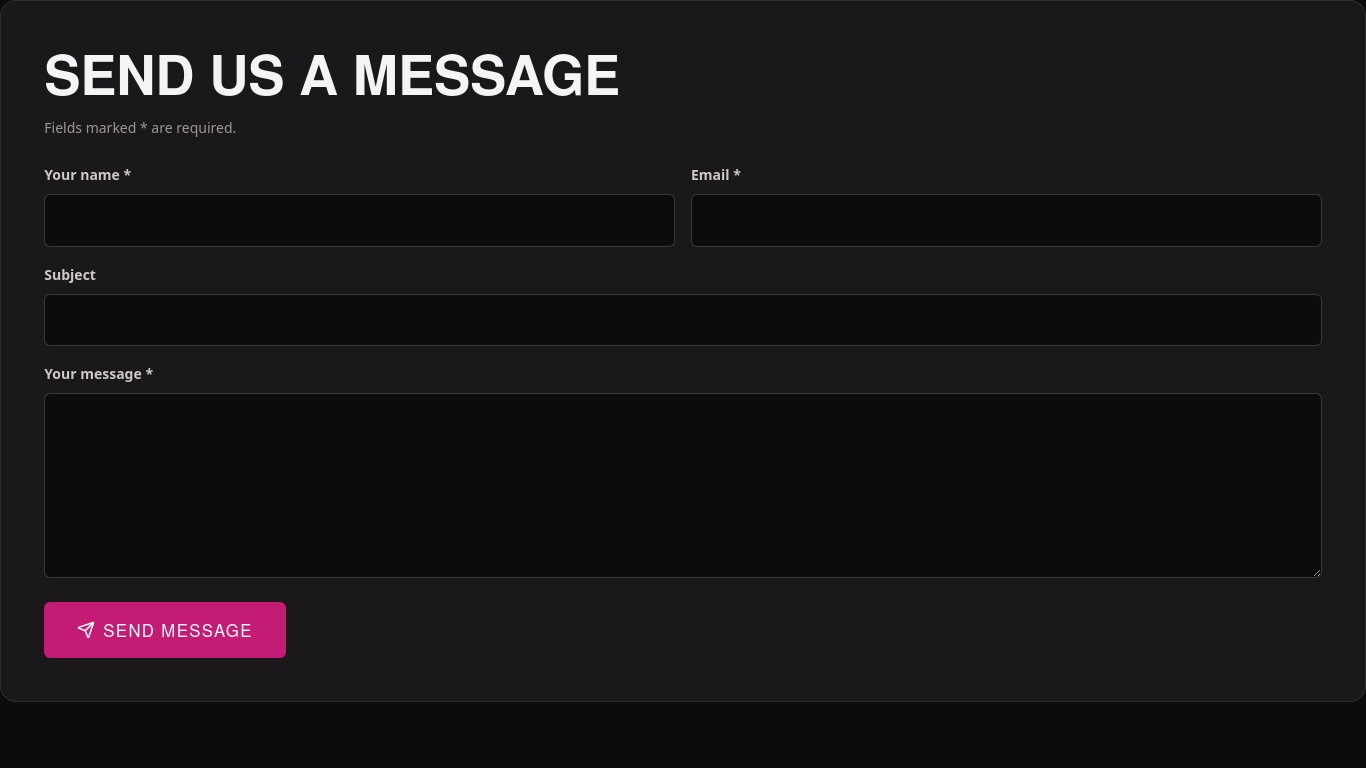
contact form › reports success only after the endpoint responds OK
This screenshot has width=1366, height=768.
Click the button "Send message" at (165, 630), box top-left (44, 602), bottom-right (286, 658)
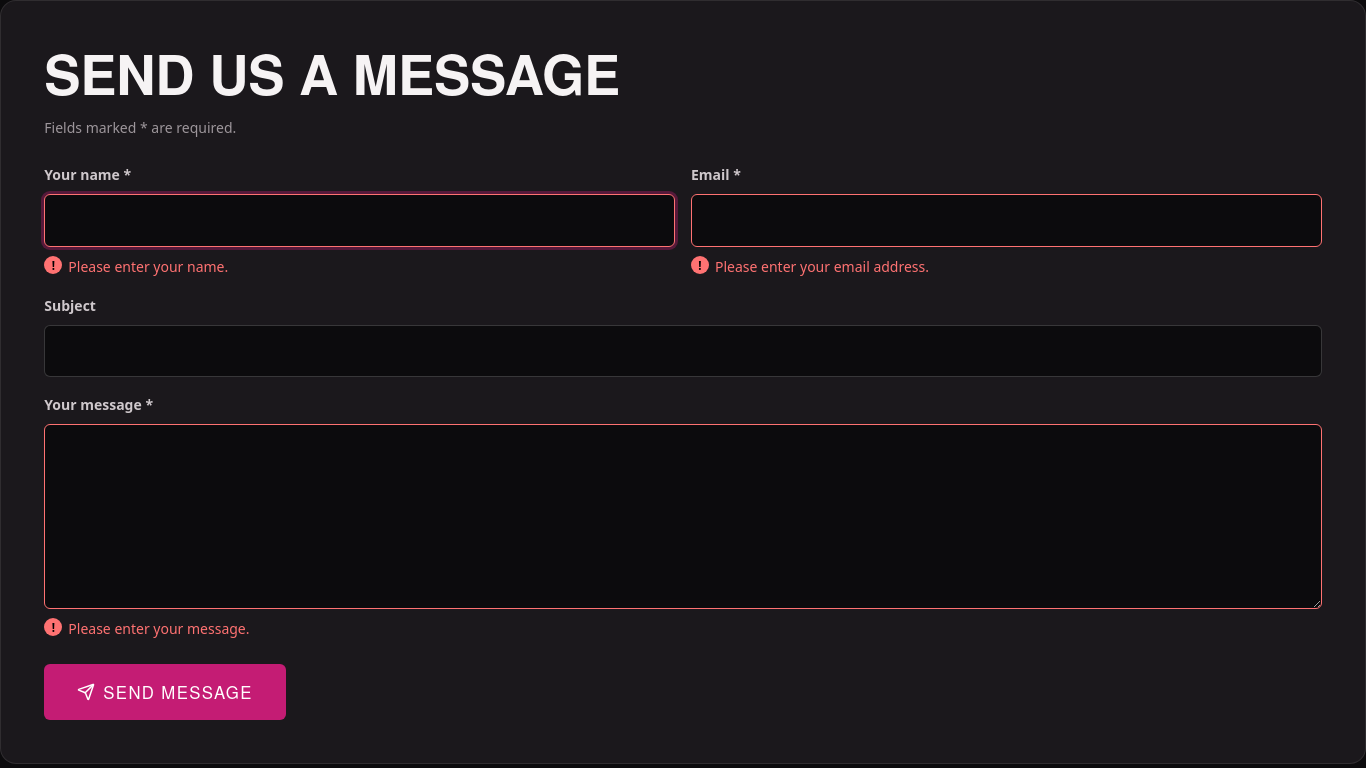
Now the text "Please enter your name." is shown, box top-left (68, 257), bottom-right (228, 276)
Type "Asha" into the field labelled "Your name *" at (360, 220), box top-left (44, 194), bottom-right (675, 247)
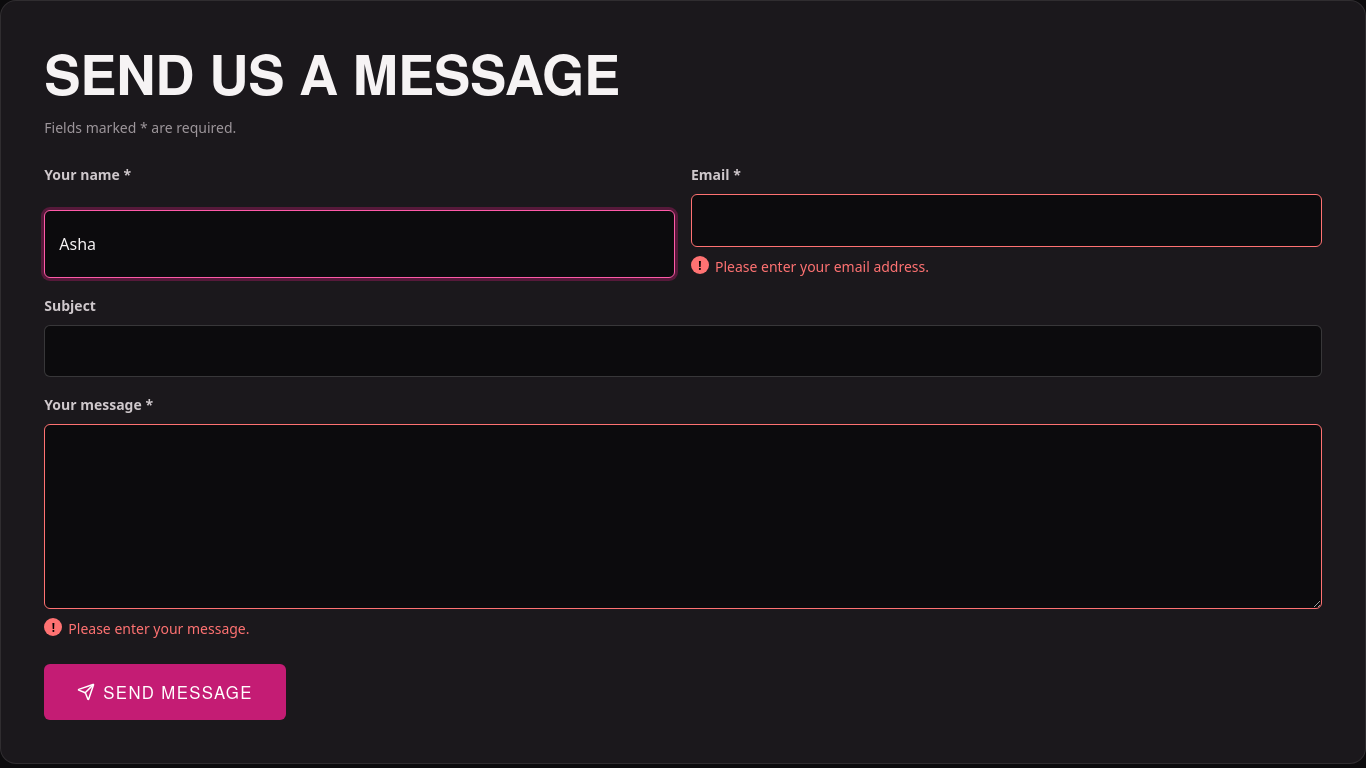
Type "asha@example.com" into the field labelled "Email *" at (1006, 220), box top-left (691, 194), bottom-right (1322, 247)
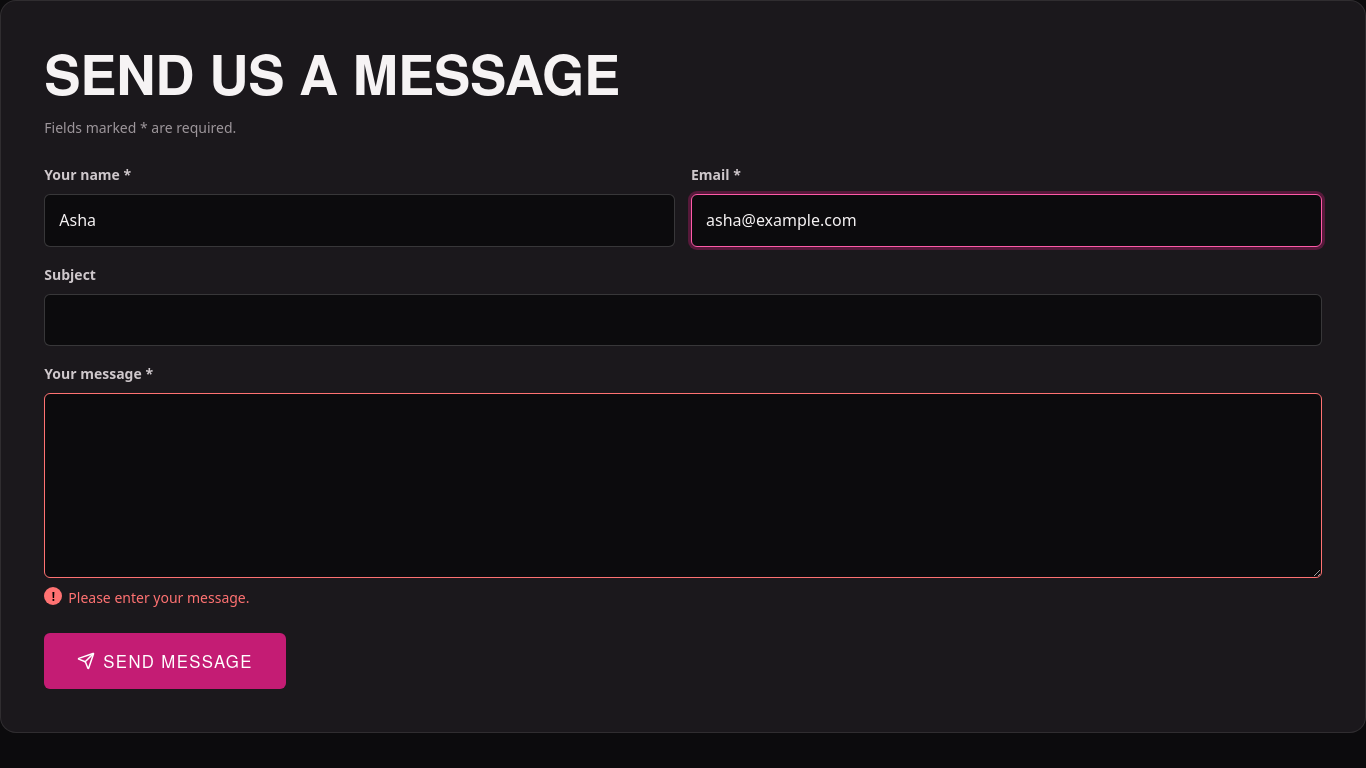
Type "Hello" into the text box labelled "Your message *" at (683, 485), box top-left (44, 393), bottom-right (1322, 578)
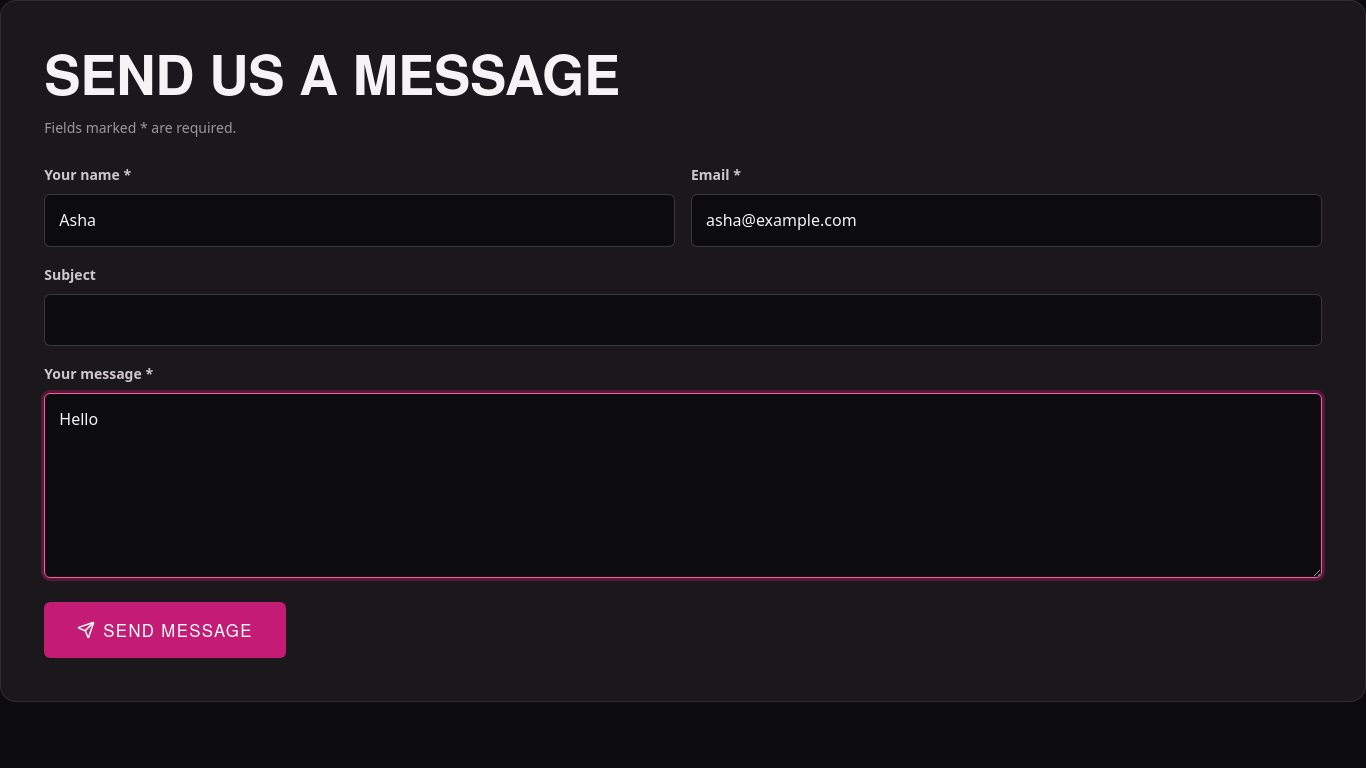
Click the button "Send message" at (165, 630), box top-left (44, 602), bottom-right (286, 658)
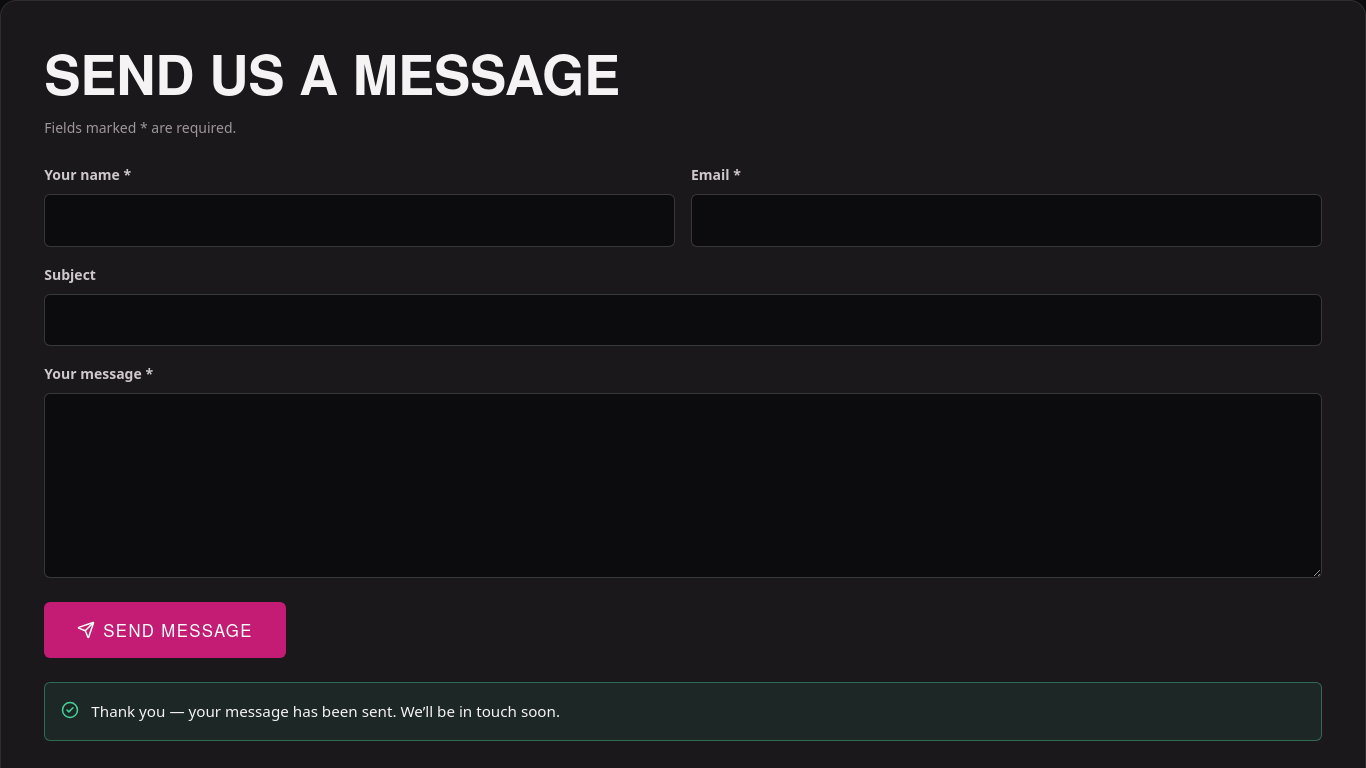
Now the text "your message has been sent" is shown, box top-left (91, 701), bottom-right (560, 721)
